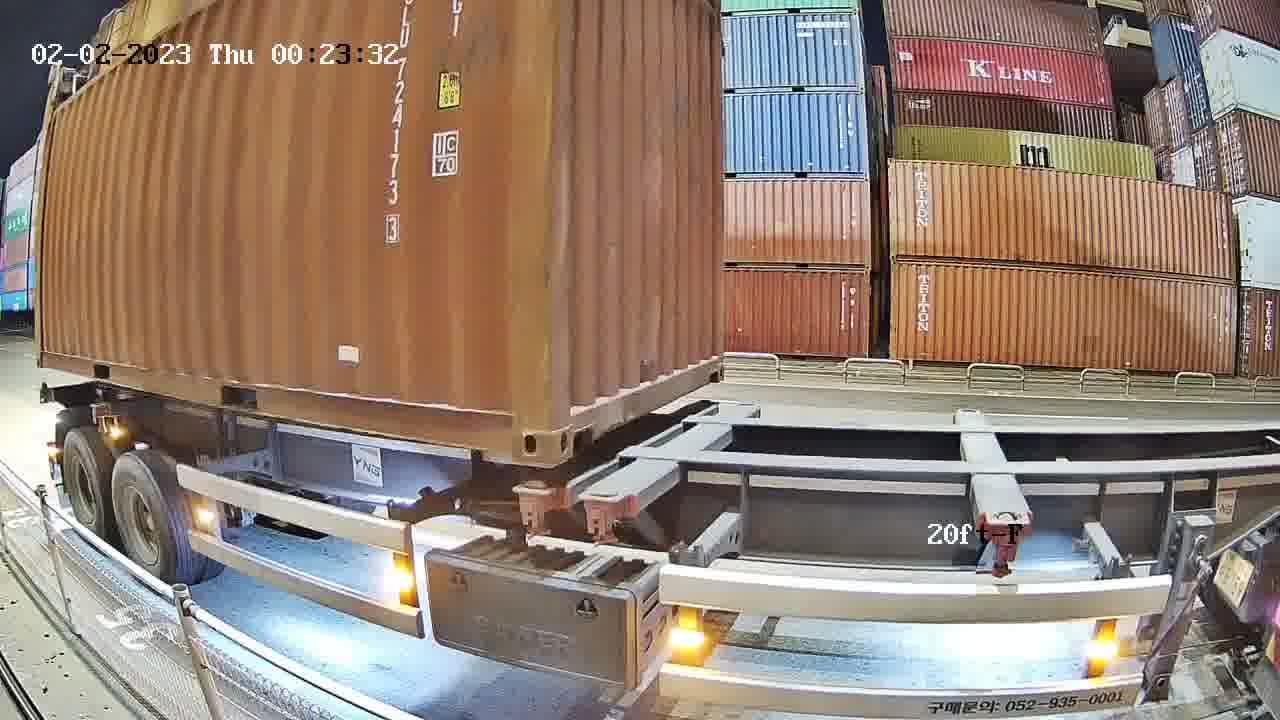Chassis: (575, 404, 761, 517)
Cone: (578, 484, 631, 547), (515, 475, 560, 535)
Hole_L: (548, 368, 604, 470)
Hole_R: (468, 382, 548, 470), (703, 345, 726, 384)
Tire: (110, 455, 177, 585), (63, 429, 105, 538)
